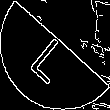L_NE: (28, 26, 82, 84)
